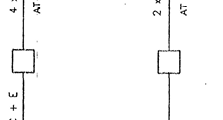Cable Termination Box: (9, 45, 44, 79), (154, 46, 188, 80)
